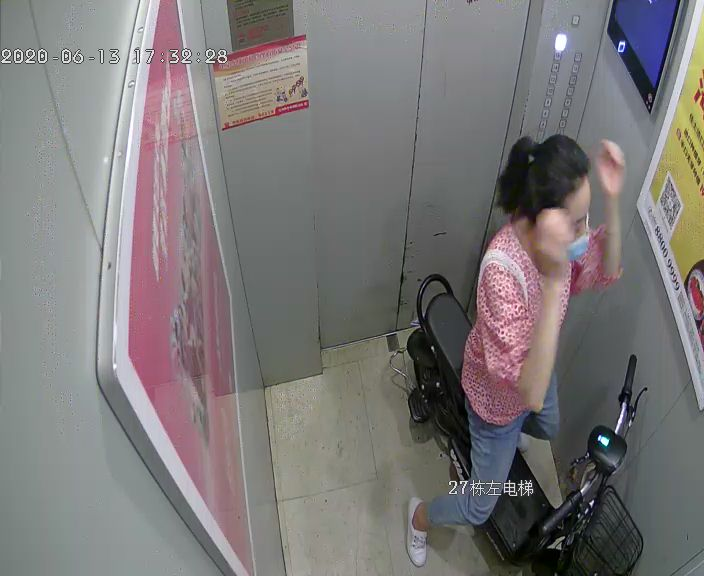Electric-bicycle: (407, 282, 630, 565)
